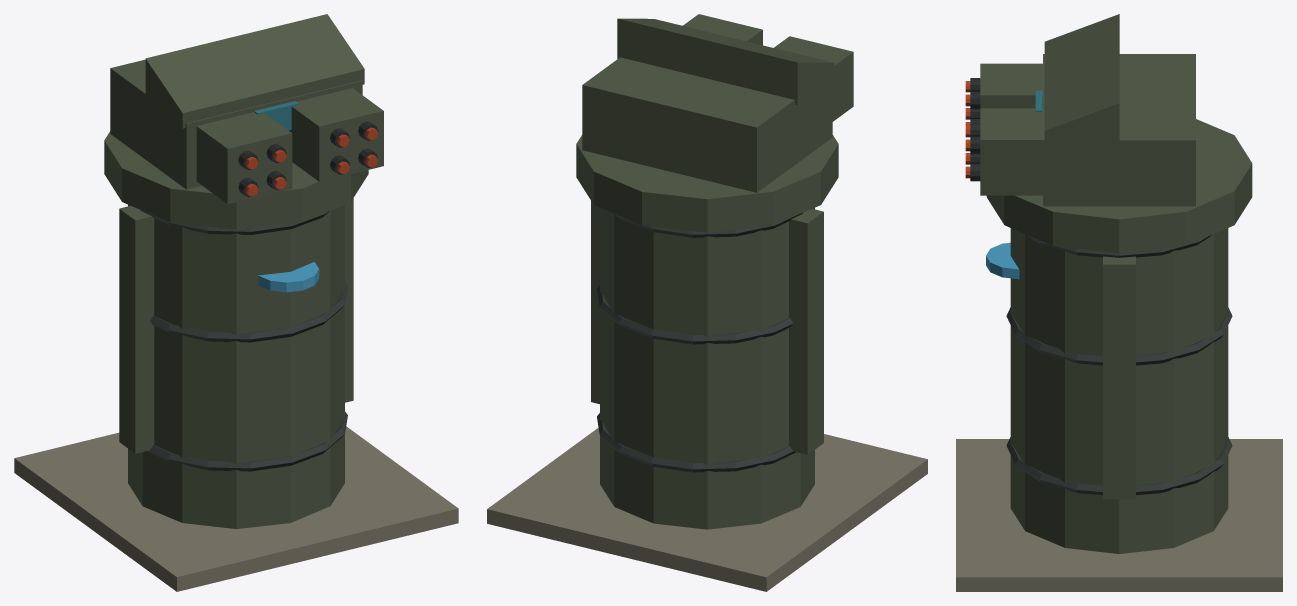
Rendered from Bastion_AdvancedGunTower_Static.obj.
3 renders of one model, left to right at view 1: azimuth 30°, elevation 25°; view 2: azimuth 150°, elevation 25°; view 3: azimuth 270°, elevation 25°, orthographic.
Parts seen in each view (by area): view 1: Bastion_AdvancedGunTower_Static; view 2: Bastion_AdvancedGunTower_Static; view 3: Bastion_AdvancedGunTower_Static.
Boxes of the visible parts, box(x1,y1,x2,y2) form: Bastion_AdvancedGunTower_Static: box(14, 14, 458, 591); Bastion_AdvancedGunTower_Static: box(487, 14, 927, 591); Bastion_AdvancedGunTower_Static: box(956, 14, 1282, 591).
Size of the model in its own units: 4.8 by 7.52 by 4.8.
1 material, 1 textured.
